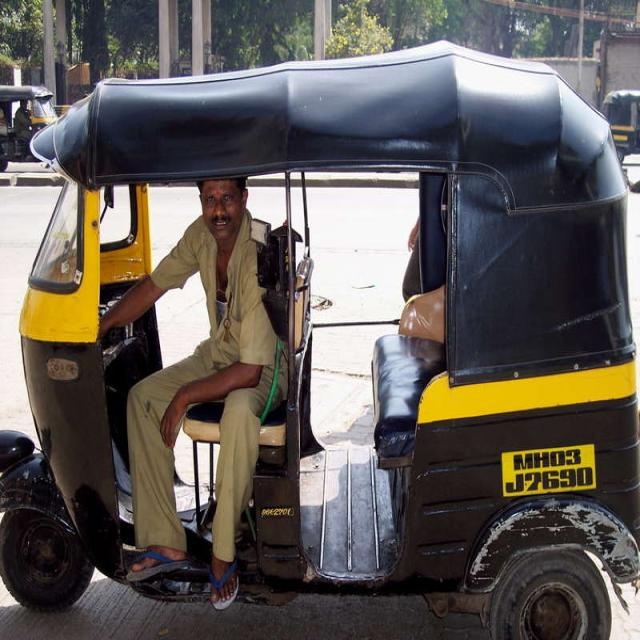autorickshaw: (0, 42, 640, 638), (0, 87, 56, 171)
